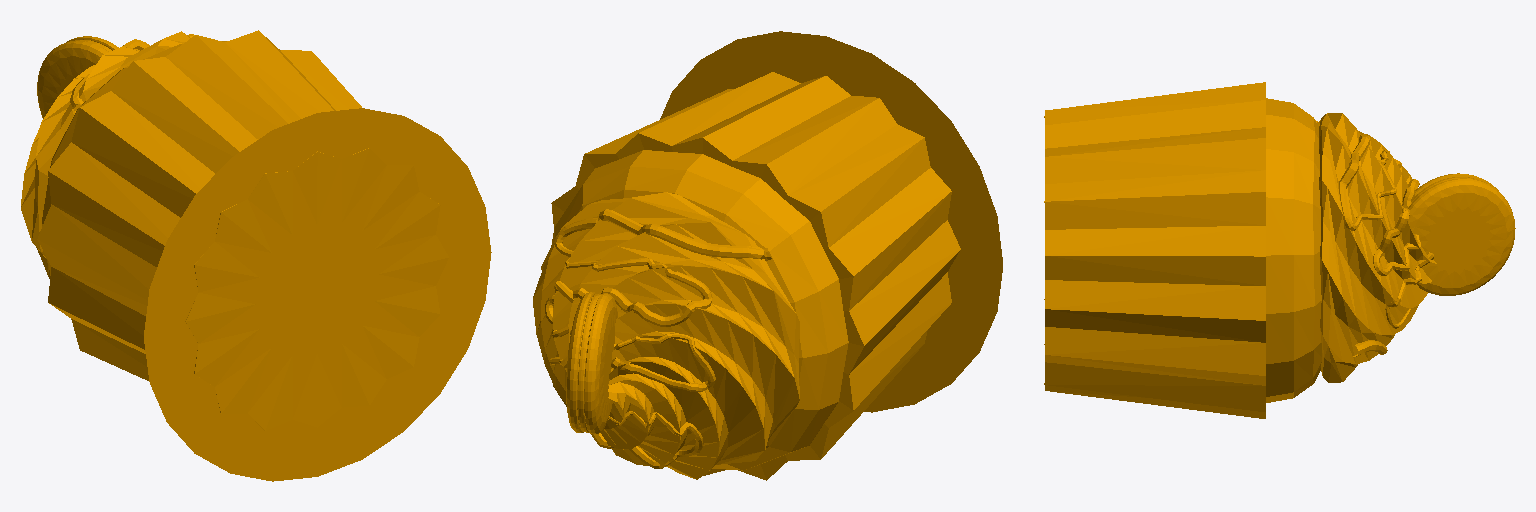
robot.urdf — cupcake.urdf:
<?xml version="1.0" ?>
<robot name="cupcake.urdf">
  <link name="baseLink">
    <!-- <inertial>
      <origin rpy="0 0 0" xyz="0 0 0"/>
       <mass value="0.1"/>
       <inertia ixx="0" ixy="0" ixz="0" iyy="0" iyz="0" izz="0"/>
    </inertial> -->
        <contact>
      <friction_anchor/>
      <lateral_friction value="0.3"/>
      <rolling_friction value="0.0"/>
      <contact_cfm value="0.0"/>
      <contact_erp value="1.0"/>
    </contact>
    <inertial>
       <origin rpy="0 0 0" xyz="0 0 0"/>
       <mass value="0.1"/>
       <inertia ixx="8e-05" ixy="0" ixz="0" iyy="0.0002" iyz="0" izz="0.0002"/>
    </inertial>
    <visual>
      <origin rpy="0 0 0" xyz="0 0 0"/>
      <geometry>
        <mesh filename="cupcake.obj" scale="0.05 0.05 0.05"/>
      </geometry>
      <!-- <material name="white">
       <color rgba="1 1 1 1"/>
     </material> -->
    </visual>
    <collision>
      <origin rpy="0 0 0" xyz="0 0 0"/>
      <geometry>
        <mesh filename="cupcake.obj" scale="0.05 0.05 0.05"/>
        <!-- You could also specify the collision (for the scissors) with a "box" tag: -->
        <!-- <box size=".06 .06 .06"/> -->
      </geometry>
    </collision>
  </link>
</robot>

--- Render facts (derived) ---
3 views of the same robot in one strip: view 1: azimuth 30°, elevation 25°; view 2: azimuth 150°, elevation 25°; view 3: azimuth 270°, elevation 25° (orthographic).
Robot: cupcake.urdf — 1 links, 0 joints (none); root link baseLink; default pose: all joints at 0.
Links seen in each view (by area): view 1: baseLink; view 2: baseLink; view 3: baseLink.
Link boxes in pixels (left/top/right/bottom): baseLink: left=21, top=30, right=491, bottom=481; baseLink: left=533, top=31, right=1002, bottom=480; baseLink: left=1044, top=82, right=1515, bottom=418.
Bounding box of the posed robot: 0.0798 × 0.103 × 0.0798 m (x, y, z).
Meshes: 1 distinct files referenced, 1 mesh visuals loaded (1 OBJ).